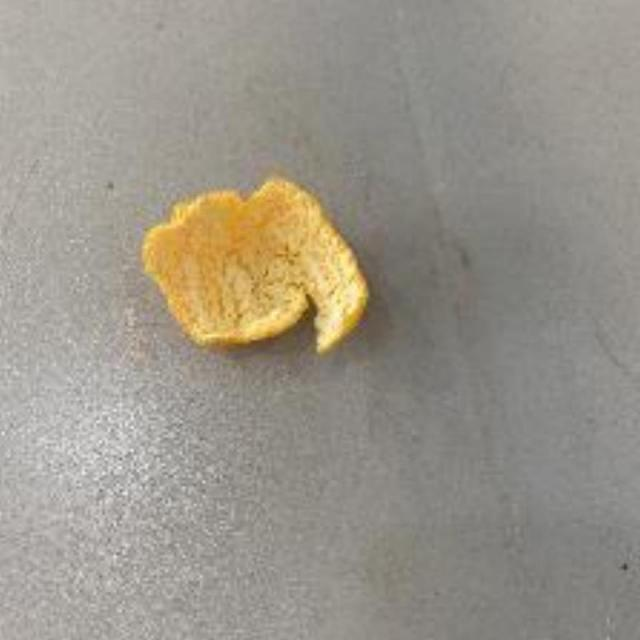orange peel: (132, 166, 372, 350)
